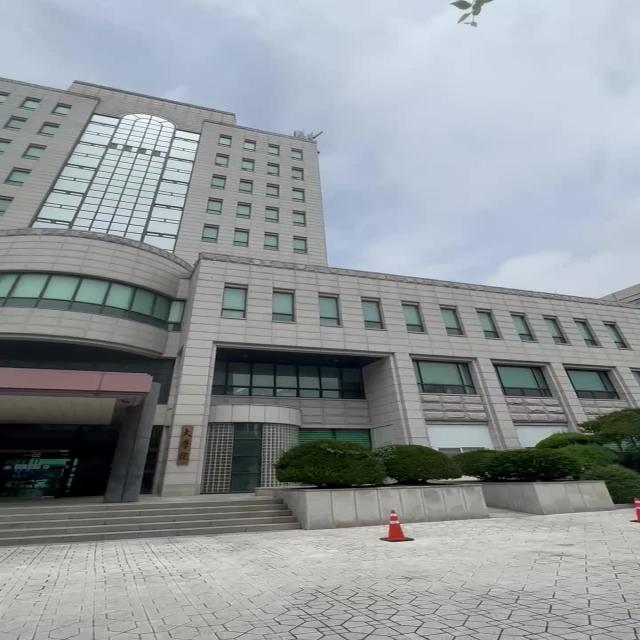building: (11, 86, 370, 421)
